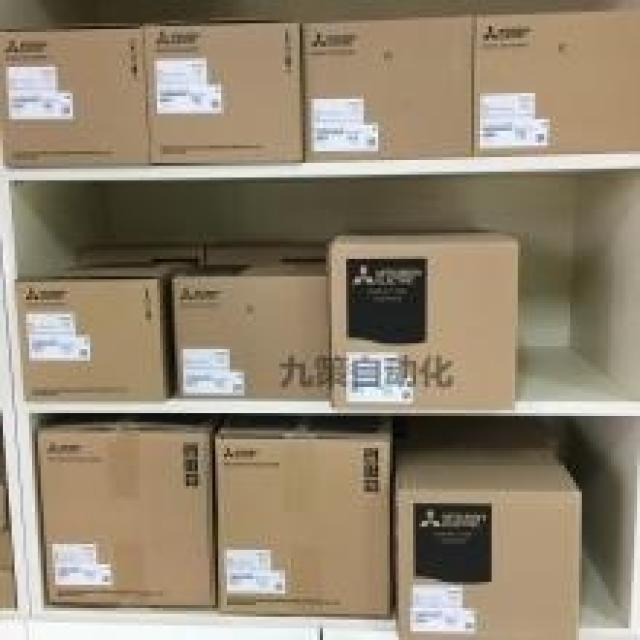Carton: (305, 12, 634, 151), (0, 20, 300, 163), (396, 445, 576, 634), (215, 431, 387, 611), (332, 239, 515, 407), (38, 428, 212, 602), (172, 273, 323, 396), (15, 276, 163, 399)
